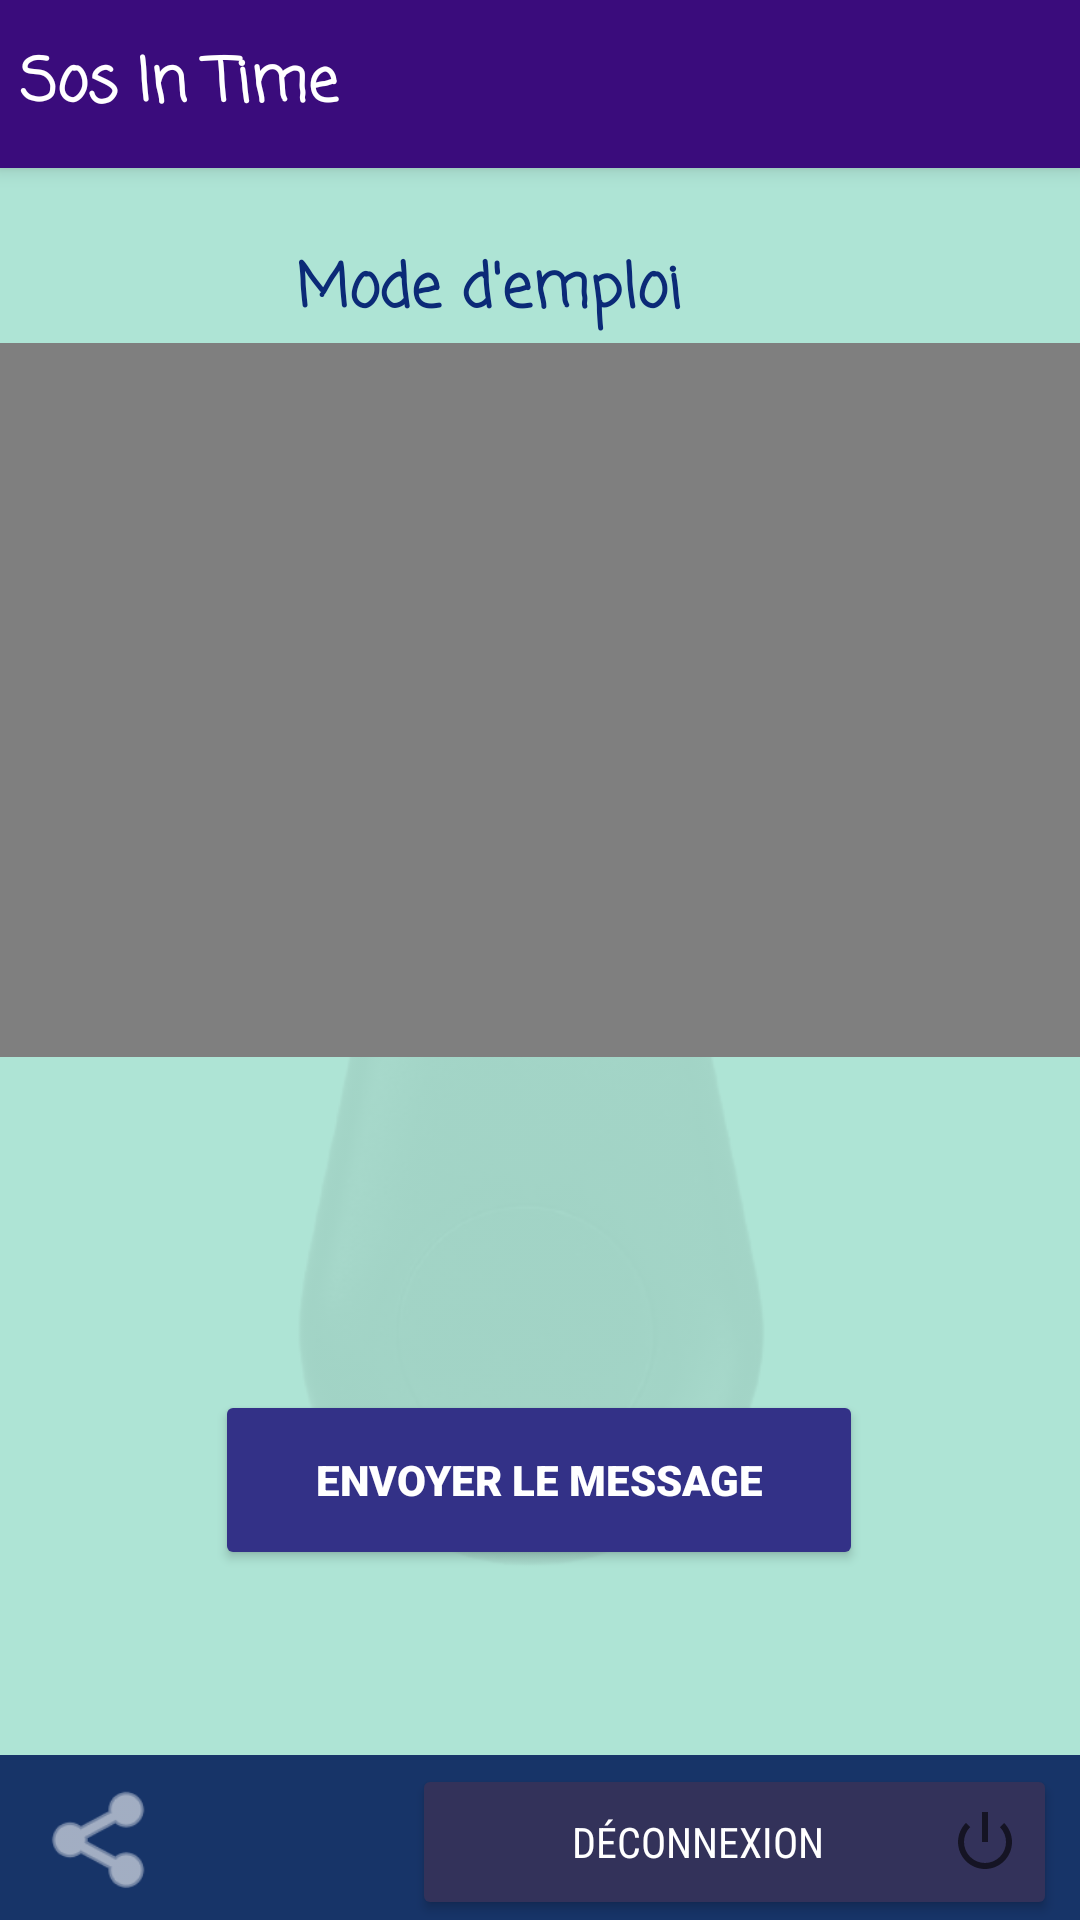

Locate icon controls on the screen. Image size 1080*1920, boxes as [x1,y1,x2,y2].
share: [52,1792,144,1888]
